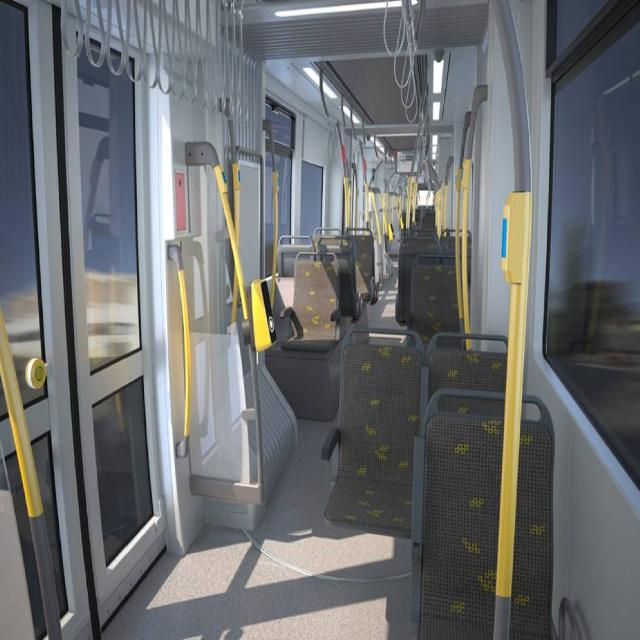empty-seat-frontal: (321, 324, 427, 542), (278, 250, 340, 356)
